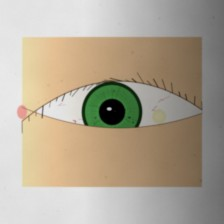pinguecula_lesion: (145, 105, 174, 128)
